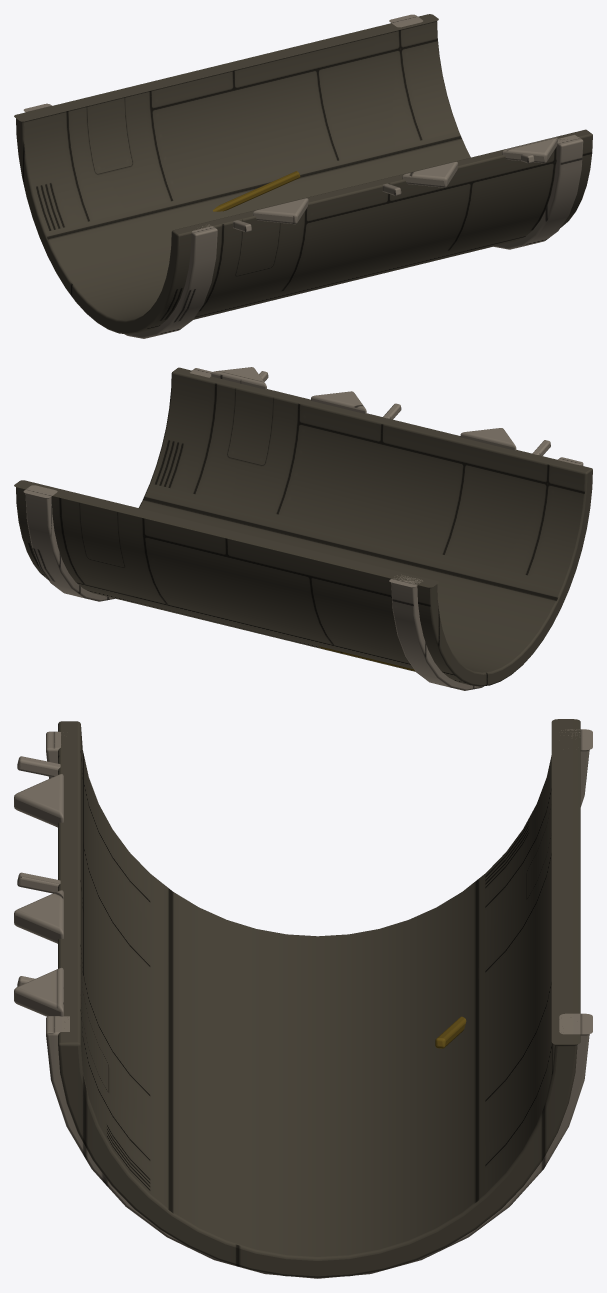
Rendered from cargo-split-pressure-vessel_lod0.glb.
3 renders of one model, top to bottom at view 1: azimuth 30°, elevation 25°; view 2: azimuth 150°, elevation 25°; view 3: azimuth 270°, elevation 25°, orthographic. The views are drawn at different scales.
Parts seen in each view (by area): view 1: LOD0_Hull, LOD0_BrushedMetal, LOD0_Livery; view 2: LOD0_Hull, LOD0_BrushedMetal; view 3: LOD0_Hull, LOD0_BrushedMetal.
Boxes of the visible parts, box(x1,y1,x2,y2) form: LOD0_Hull: box(14, 14, 592, 334); LOD0_BrushedMetal: box(23, 14, 583, 338); LOD0_Livery: box(213, 171, 300, 211); LOD0_Hull: box(14, 367, 592, 686); LOD0_BrushedMetal: box(23, 367, 583, 690); LOD0_Hull: box(58, 719, 580, 1277); LOD0_BrushedMetal: box(14, 729, 592, 1278).
Bounding box in the file's own units: 2.52 × 0.92 × 1.89.
3 materials, 3 textured.
